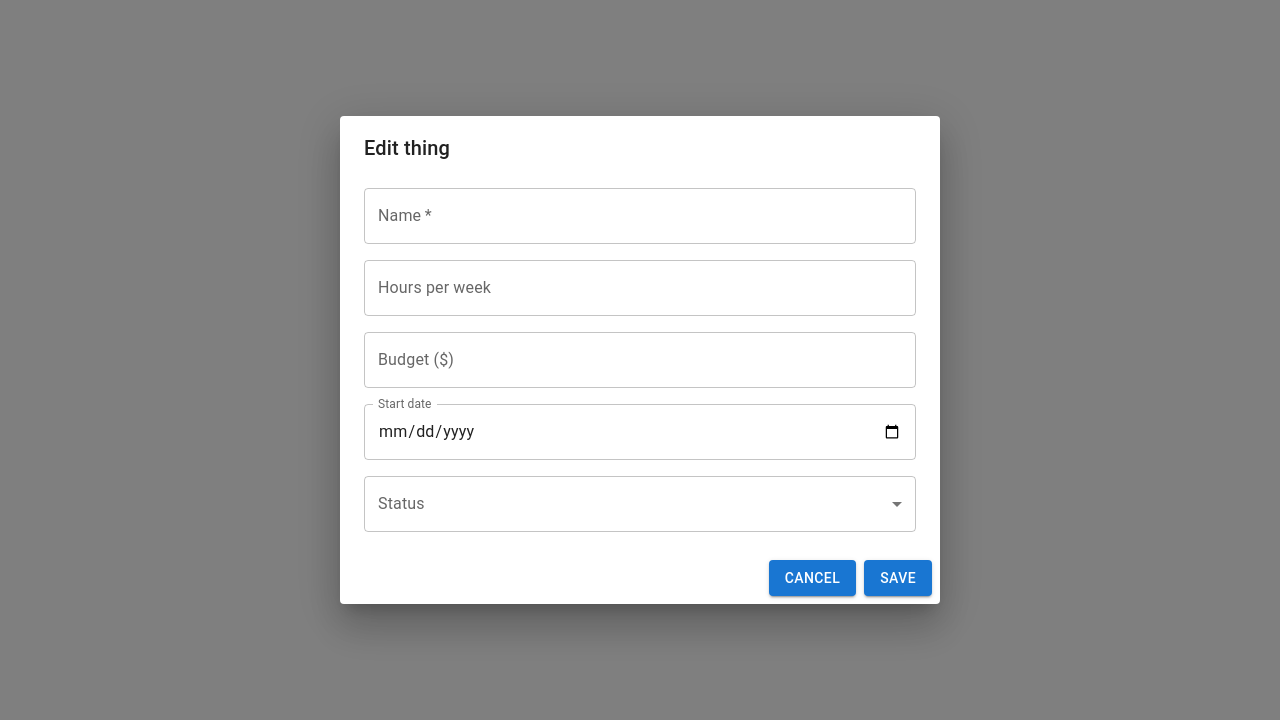
it: FormDialog › puts the server's field error on that field, and other errors on top
In the field labelled "Name *": (640, 216) [364,188,916,244], type "Apollo"
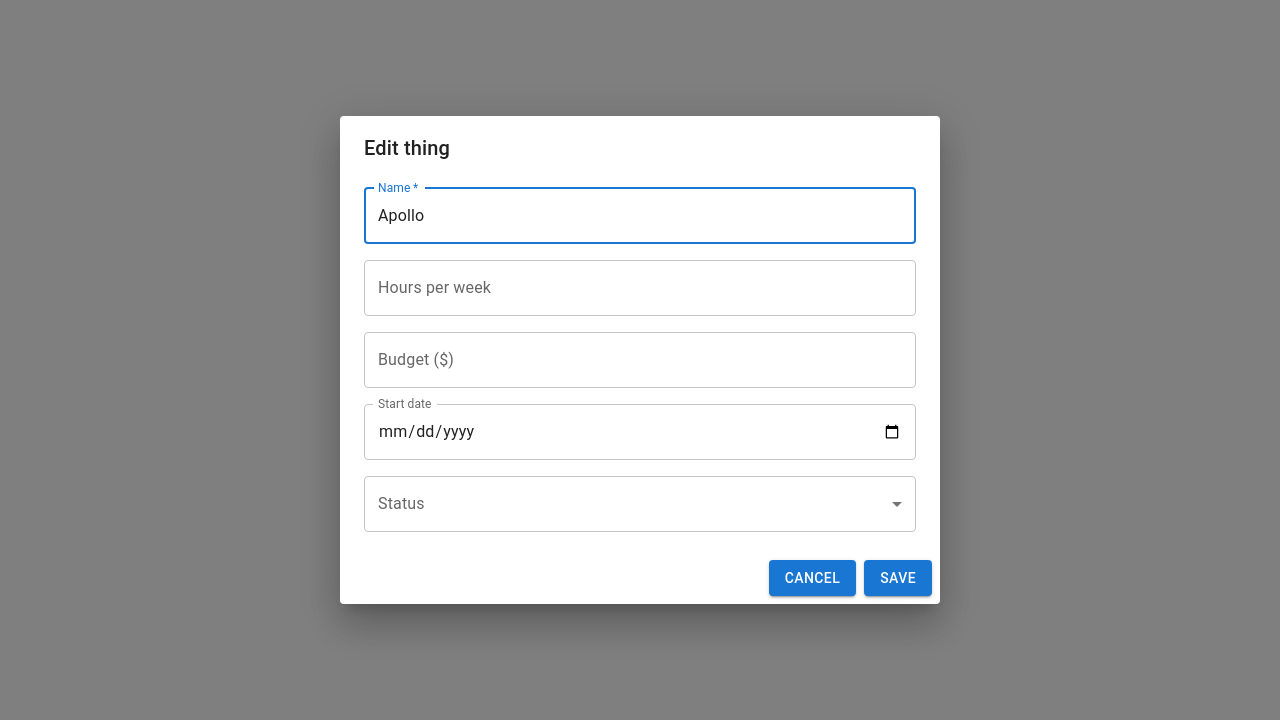
In the number field labelled "Hours per week": (640, 288) [364,260,916,316], type "60"
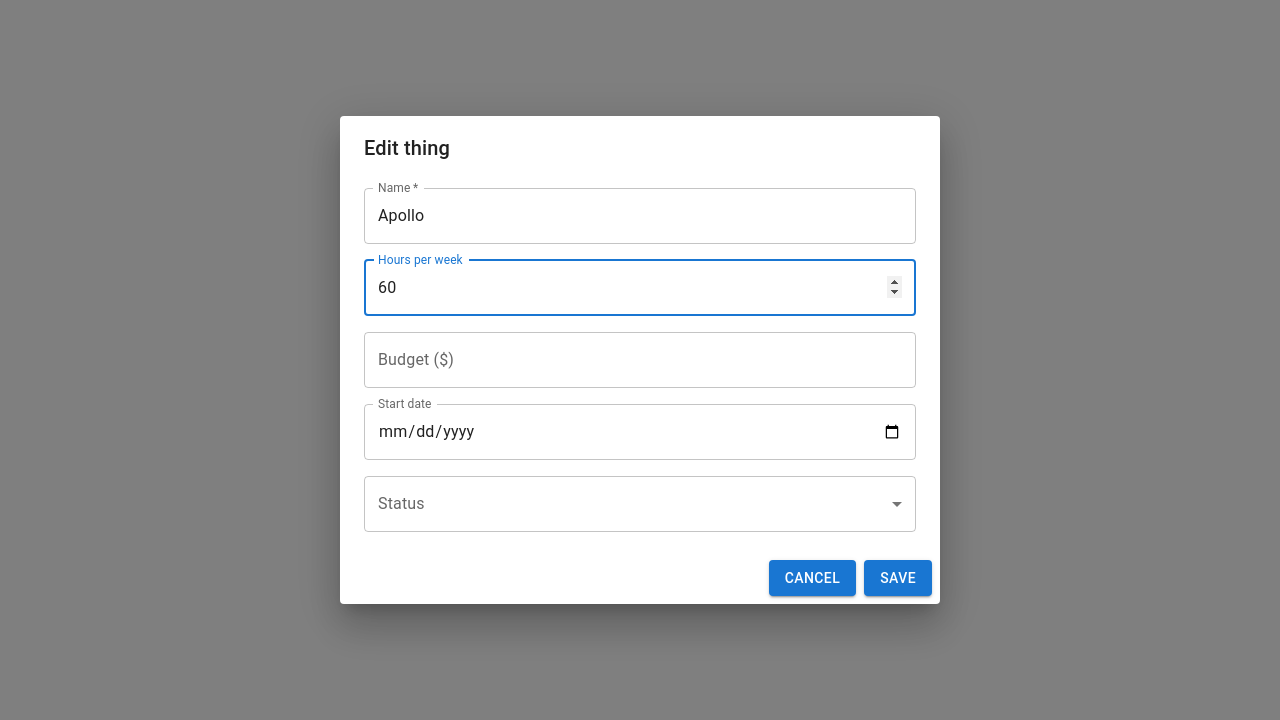
Click the button "Save": (898, 578) [864,560,932,596]
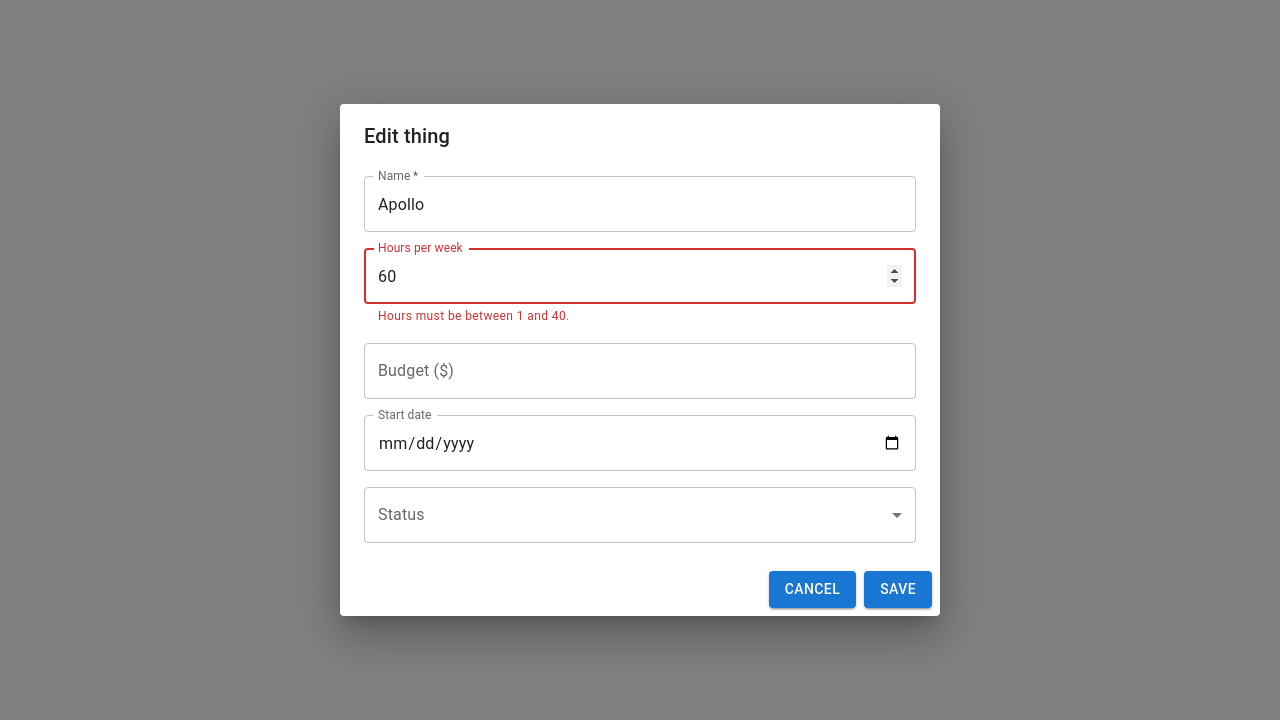
Now the text "Hours must be between 1 and 40." is shown, box [378,309,570,323]
Click the button "Save": (898, 589) [864,571,932,608]
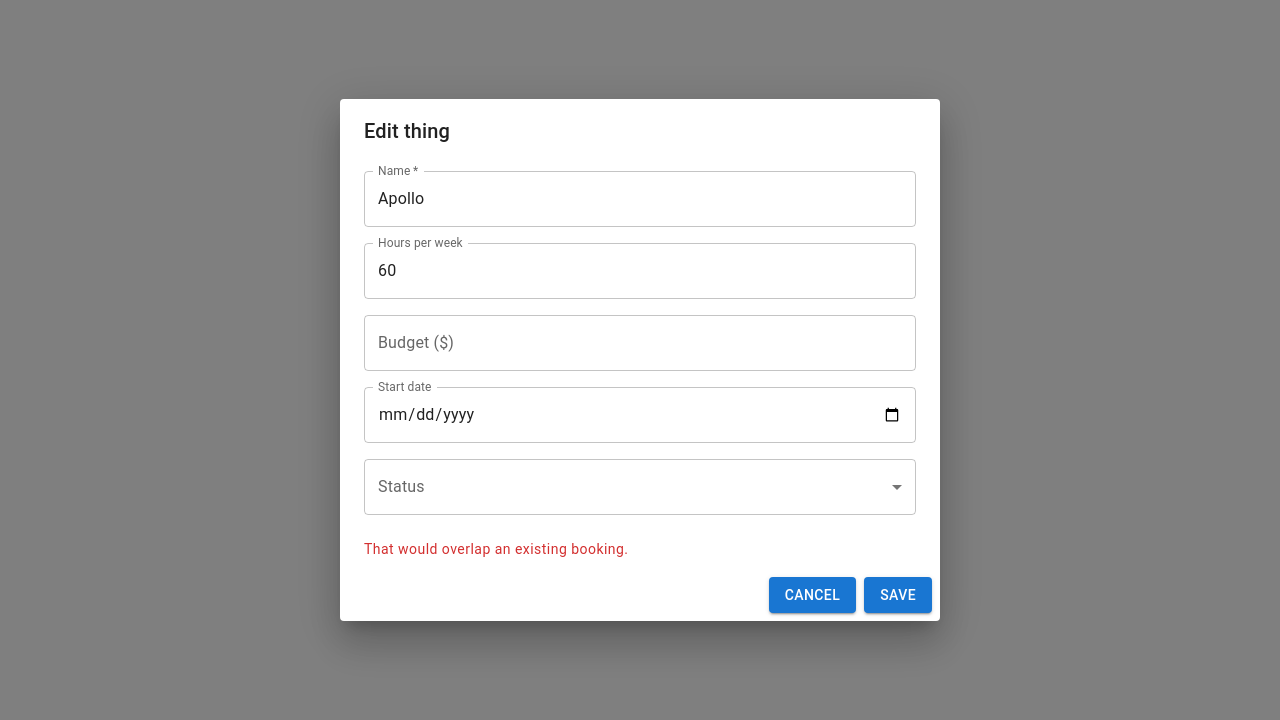
Now the text "That would overlap an existing booking." is shown, box [364,541,628,557]
